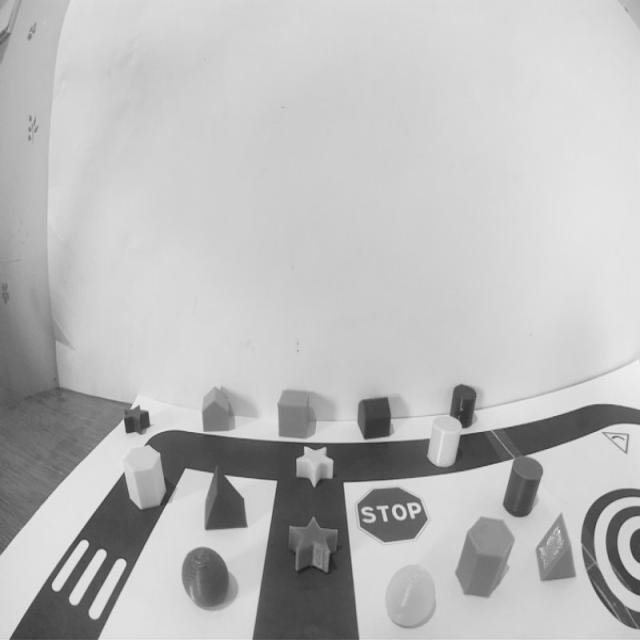ball: (383, 561, 440, 633), (179, 542, 233, 614)
cube: (273, 381, 313, 444)
cylinder: (499, 452, 544, 516), (428, 408, 463, 469), (447, 380, 480, 434)
hexagon: (451, 509, 519, 606), (120, 442, 170, 512)
home: (197, 384, 235, 435), (356, 392, 394, 440)
lineStraight: (254, 480, 360, 640)
nest: (580, 480, 640, 640)
star: (282, 518, 346, 582), (293, 440, 338, 487), (120, 402, 152, 438)
stop: (341, 483, 436, 544)
triangle: (198, 463, 252, 535), (531, 509, 578, 585)
zebracross: (39, 526, 135, 630)
